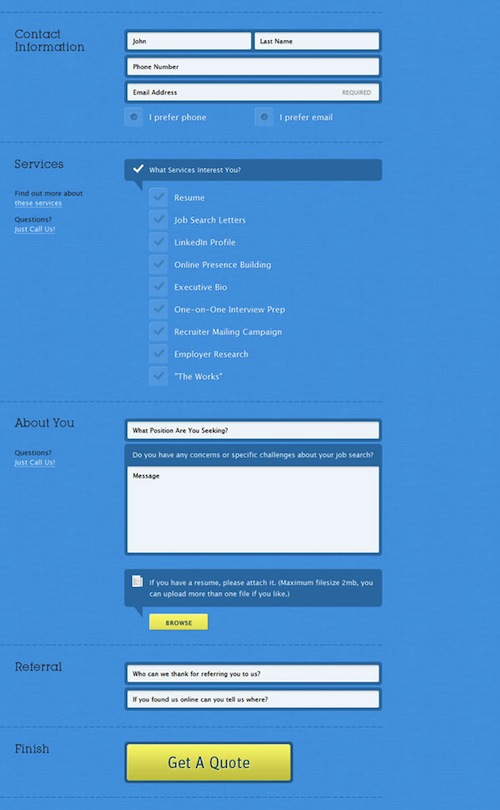_form_: (1, 394, 416, 810), (1, 1, 416, 416)
button: (123, 742, 294, 783), (148, 613, 209, 633)
checkbox: (148, 275, 172, 298), (148, 209, 172, 231), (147, 298, 169, 320), (148, 341, 169, 364), (148, 232, 170, 253), (148, 253, 169, 275), (149, 188, 173, 206), (149, 320, 168, 342), (149, 363, 168, 385)
checkbox_with_label: (143, 298, 286, 321), (146, 319, 283, 342), (145, 252, 276, 276), (144, 342, 250, 365), (146, 208, 246, 232), (143, 275, 228, 300), (144, 231, 236, 254), (143, 363, 224, 387), (146, 186, 206, 207)
field: (124, 444, 382, 556), (123, 80, 382, 105), (124, 661, 383, 686), (124, 687, 383, 712), (124, 54, 381, 79), (124, 418, 381, 443), (252, 29, 381, 53), (125, 29, 253, 53)
radio: (125, 106, 143, 125), (254, 106, 271, 125)
radio_with_label: (122, 104, 207, 128), (251, 103, 333, 127)
